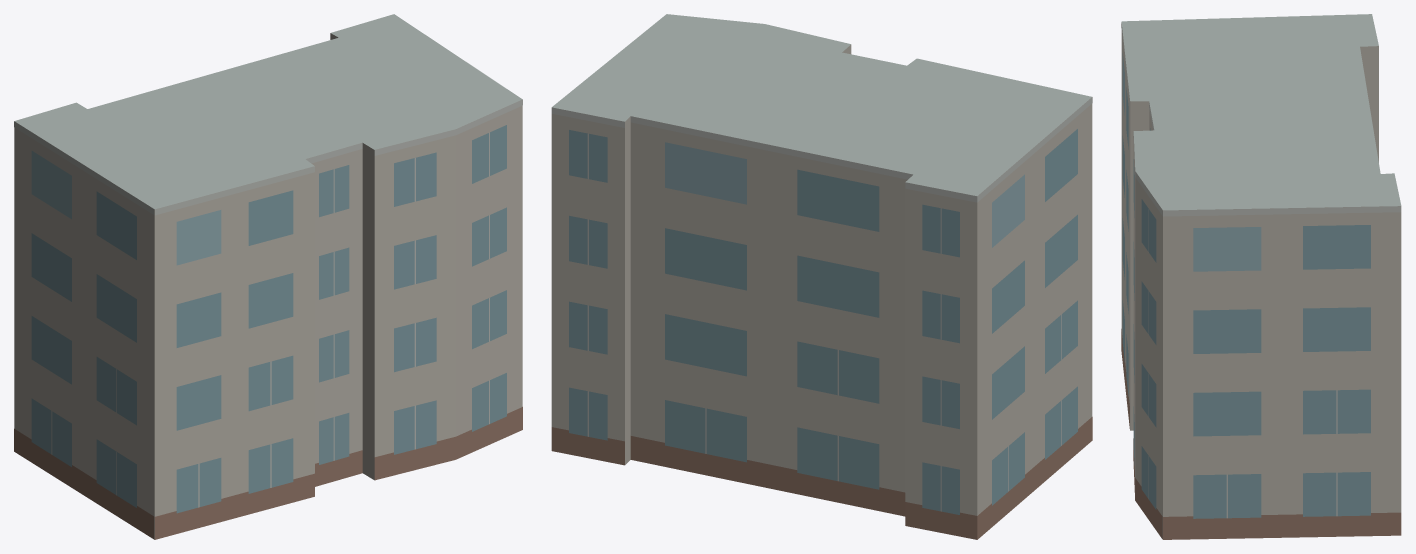
File: survey-upis-32613561.glb
The picture shows the model from 3 angles, left to right: view 1: azimuth 30°, elevation 25°; view 2: azimuth 150°, elevation 25°; view 3: azimuth 270°, elevation 25°; orthographic projection. The views are drawn at different scales.
Visible parts, largest first — view 1: survey-upis-32613561.tmp; view 2: survey-upis-32613561.tmp; view 3: survey-upis-32613561.tmp.
Boxes of the visible parts, x1,y1,x2,y2 form: survey-upis-32613561.tmp: [14, 14, 522, 539]; survey-upis-32613561.tmp: [551, 14, 1092, 539]; survey-upis-32613561.tmp: [1121, 14, 1401, 539].
Bounding box in the file's own units: 16.88 × 13.2 × 10.17.
